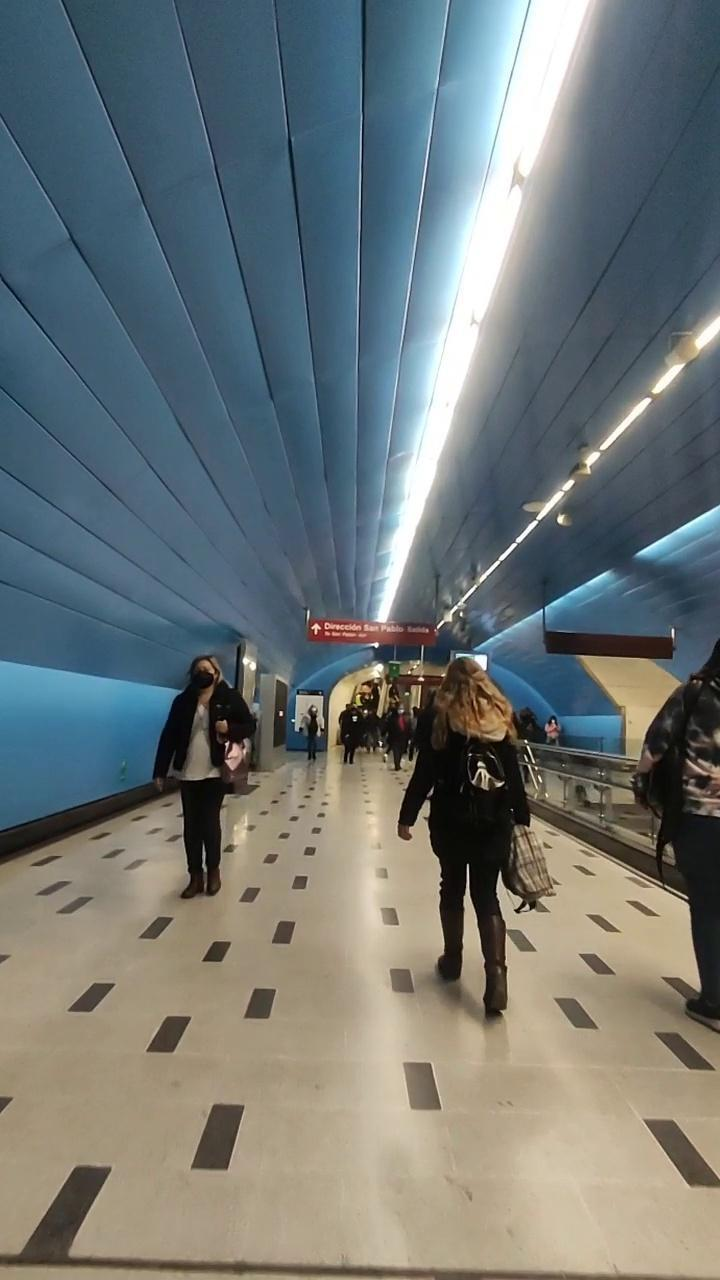up arrow: (310, 620, 322, 638)
